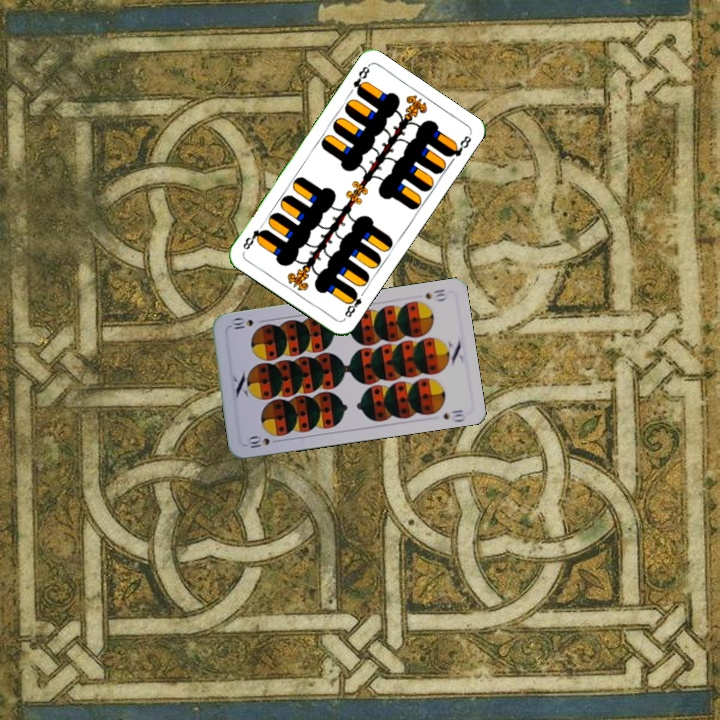E8: (340, 286, 368, 320), (349, 62, 372, 98)
S10: (244, 432, 283, 451), (421, 285, 450, 304)
